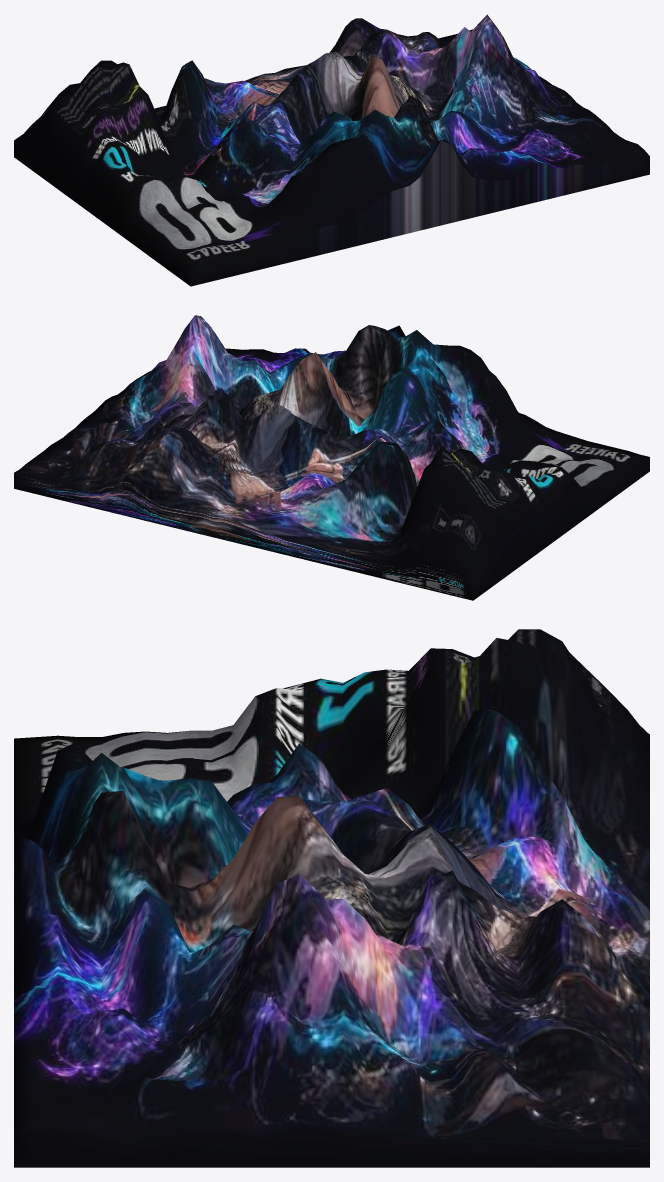
Rendered from CAREER_09_VFX_01_Inspiration.glb.
3 renders of one model, top to bottom at view 1: azimuth 30°, elevation 25°; view 2: azimuth 150°, elevation 25°; view 3: azimuth 270°, elevation 25°, orthographic. The views are drawn at different scales.
Visible parts, largest first — view 1: CAREER_09_VFX_01_Inspiration; view 2: CAREER_09_VFX_01_Inspiration; view 3: CAREER_09_VFX_01_Inspiration.
Boxes of the visible parts, box(x1,y1,x2,y2) form: CAREER_09_VFX_01_Inspiration: box(14, 14, 649, 286); CAREER_09_VFX_01_Inspiration: box(14, 315, 649, 600); CAREER_09_VFX_01_Inspiration: box(14, 629, 649, 1167).
Size of the model in its own units: 2 by 0.51 by 1.33.
1 material, 1 textured.
